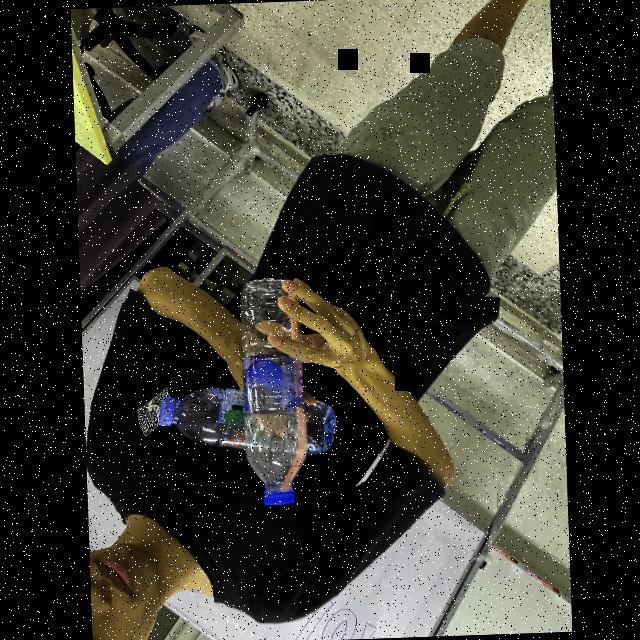plastic_bottle: (236, 274, 307, 504), (155, 382, 336, 459)
